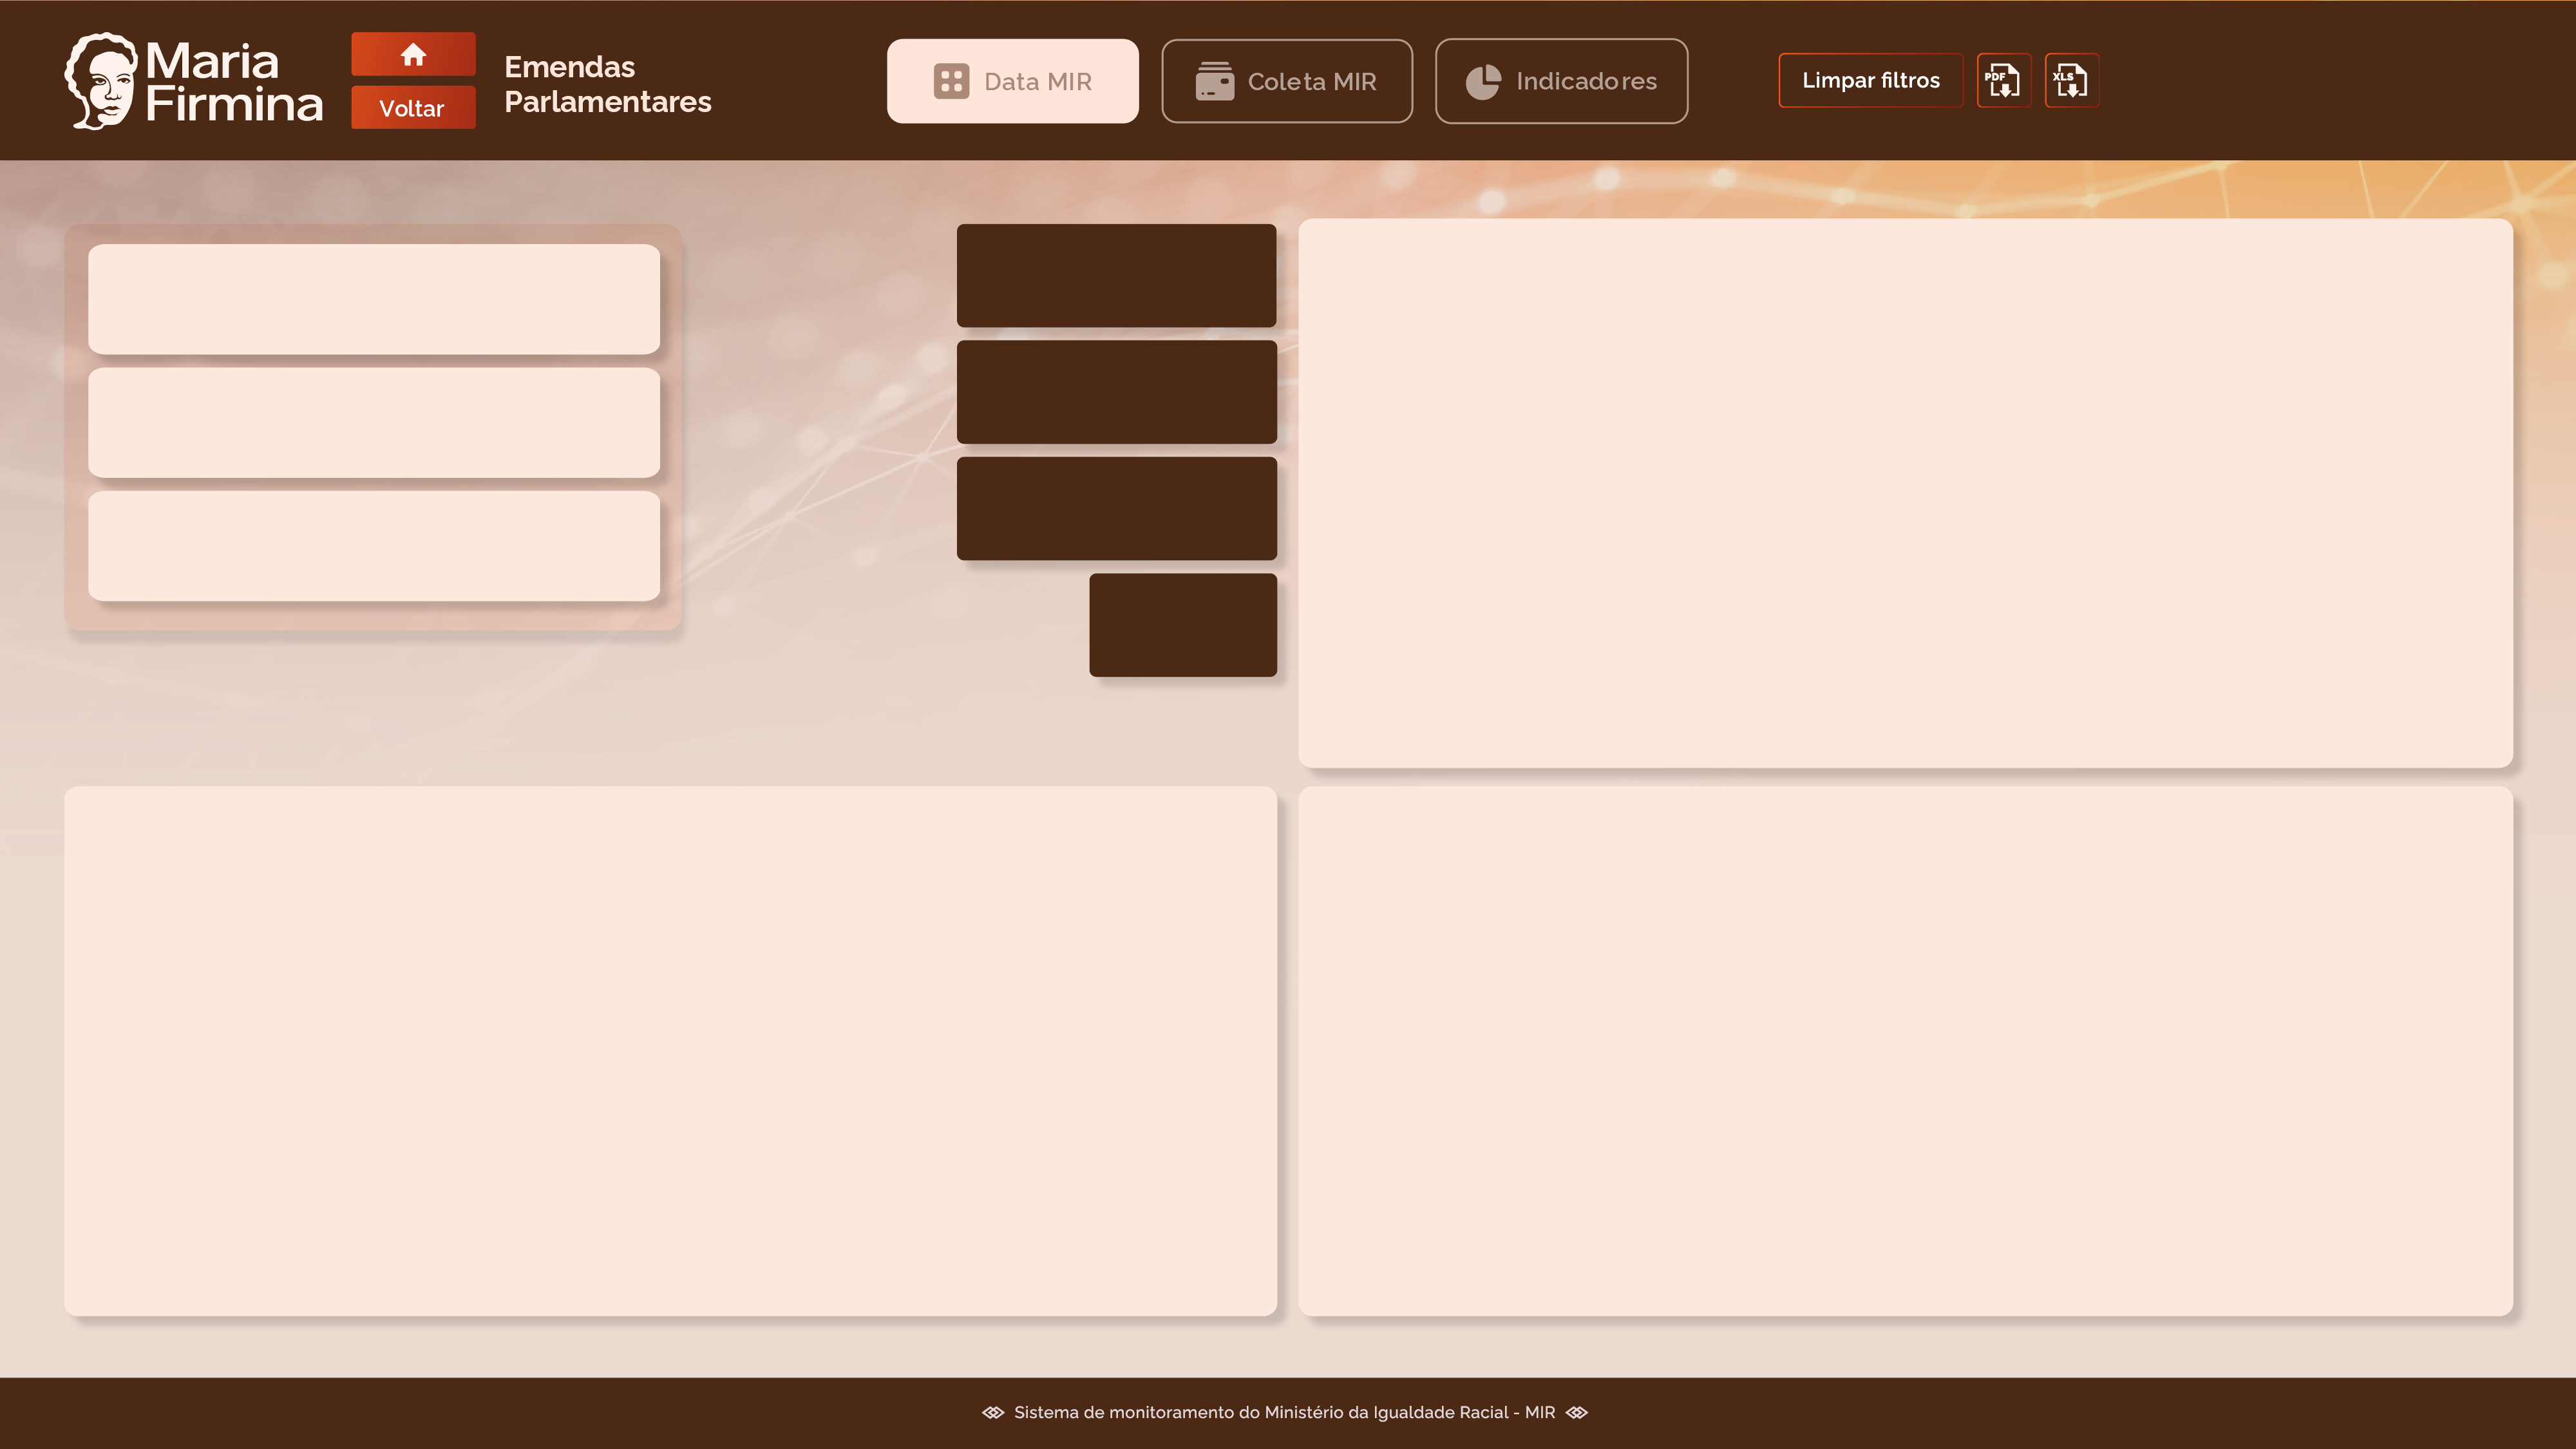

The page's visual inventory and layout, read from the dashboard file:
{"tool":"powerbi","page":{"name":"Emendas Parlamentares","canvas":[1920,1080],"ordinal":5},"visuals":[{"type":"slicer","fields":{"Values":["emendas_execucao.ne_ccor_ano_emissao"]},"box":[63.8,196.2,301.2,71.2],"z":1000},{"type":"slicer","fields":{"Values":["emendas_execucao.autor_emendas_orcamento_nome"]},"box":[63.8,391.2,301.2,72.5],"z":2000},{"type":"slicer","fields":{"Values":["emendas_execucao.cargo_autor"]},"box":[63.8,483.8,301.2,72.5],"z":3000},{"type":"slicer","fields":{"Values":["emendas_execucao.codigo+acaoajustada"]},"box":[63.8,286.2,301.2,73.8],"z":4000},{"type":"filledMap","fields":{"Category":["emendas_execucao.uf"]},"box":[436.3,267.3,577.2,353.8],"z":5000},{"type":"columnChart","title":"Total Pago Pelo Autor Por Região","fields":{"Category":["emendas_execucao.regiao_pt"],"Y":["Sum(emendas_execucao.despesas_pagas)"]},"box":[1038.8,267.3,405.7,353.8],"z":6000},{"type":"cardVisual","fields":{"Data":["_medidas.Percentual Pago"]},"box":[1132,170,238,71],"z":7000},{"type":"lineChart","title":"Empenhado por Ano e Mês","fields":{"Category":["emendas_execucao.ne_ccor_ano_emissao","emendas_execucao.emissao_mes"],"Y":["_medidas.Total Empenhado Emendas","_medidas.Total Pago Partido"]},"box":[1198.4,643.7,674.3,327.2],"z":8000},{"type":"clusteredBarChart","title":"Total Empenhado Emendas por Ação Orçamentária","fields":{"Category":["emendas_execucao.acao_ajustada"],"Y":["_medidas.Total Empenhado Emendas"]},"box":[436.3,639.8,738.2,331.2],"z":9000},{"type":"slicer","fields":{"Values":["emendas_execucao.codigo+programa"]},"box":[63.8,677.5,301.2,73.8],"z":10000},{"type":"slicer","fields":{"Values":["emendas_execucao.uf"]},"box":[63.8,768.8,301.2,72.5],"z":11000},{"type":"slicer","fields":{"Values":["emendas_execucao.partido"]},"box":[63.8,573.8,301.2,73.8],"z":12000},{"type":"clusteredBarChart","title":"Maiores beneficiários","fields":{"Category":["emendas_execucao.ne_ccor_favorecido_descricao"],"Y":["_medidas.Total Pago Partido"]},"box":[1464.4,267.3,408.3,353.8],"z":13000},{"type":"cardVisual","fields":{"Data":["Sum(emendas_execucao.dotacao_inicial)"]},"box":[1669,170,204,71],"z":15000},{"type":"cardVisual","fields":{"Data":["Sum(emendas_execucao.despesas_empenhadas)"]},"box":[435.7,170,218.6,71.4],"z":16000},{"type":"cardVisual","fields":{"Data":["Sum(emendas_execucao.despesas_liquidadas)"]},"box":[673,170,210,71],"z":17000},{"type":"cardVisual","fields":{"Data":["Sum(emendas_execucao.despesas_pagas)"]},"box":[902,170,210,71],"z":18000},{"type":"cardVisual","fields":{"Data":["Sum(emendas_execucao.restos_a_pagar_pagos)"]},"box":[1389,170,266,71],"z":19000},{"type":"slicer","fields":{"Values":["emendas_execucao.tipo_instrumento"]},"box":[63.8,871.2,301.2,72.5],"z":20000},{"type":"actionButton","box":[261.5,62,94.3,32.9],"z":21000},{"type":"actionButton","box":[261.7,22.8,92.2,33.3],"z":22000},{"type":"textbox","box":[1642.6,29.3,167.6,71.8],"z":23000},{"type":"actionButton","box":[1326.7,40.7,137.8,38.9],"z":24000},{"type":"image","box":[1820,42,53.3,37.8],"z":25000},{"type":"actionButton","box":[661.3,28.7,187.3,62.7],"z":26000},{"type":"actionButton","box":[866,28.7,187.3,62.7],"z":27000},{"type":"actionButton","box":[1069.3,30,187.3,62.7],"z":28000},{"type":"pageNavigator","box":[63.8,129.2,540,23.1],"z":29000}]}

Visuals, with their boxes on the page's 1920x1080 design canvas (x1, y1, x2, y2). These are canvas units, not pixel positions in the 2576x1449 screenshot, which may show the page scaled, cropped or inside an application window:
slicer - emendas_execucao.ne_ccor_ano_emissao: BBox(64, 196, 365, 267)
slicer - emendas_execucao.autor_emendas_orcamento_nome: BBox(64, 391, 365, 464)
slicer - emendas_execucao.cargo_autor: BBox(64, 484, 365, 556)
slicer - emendas_execucao.codigo+acaoajustada: BBox(64, 286, 365, 360)
filledMap - emendas_execucao.uf: BBox(436, 267, 1014, 621)
"Total Pago Pelo Autor Por Região" columnChart: BBox(1039, 267, 1444, 621)
cardVisual - _medidas.Percentual Pago: BBox(1132, 170, 1370, 241)
"Empenhado por Ano e Mês" lineChart: BBox(1198, 644, 1873, 971)
"Total Empenhado Emendas por Ação Orçamentária" clusteredBarChart: BBox(436, 640, 1174, 971)
slicer - emendas_execucao.codigo+programa: BBox(64, 678, 365, 751)
slicer - emendas_execucao.uf: BBox(64, 769, 365, 841)
slicer - emendas_execucao.partido: BBox(64, 574, 365, 648)
"Maiores beneficiários" clusteredBarChart: BBox(1464, 267, 1873, 621)
cardVisual - Sum(emendas_execucao.dotacao_inicial): BBox(1669, 170, 1873, 241)
cardVisual - Sum(emendas_execucao.despesas_empenhadas): BBox(436, 170, 654, 241)
cardVisual - Sum(emendas_execucao.despesas_liquidadas): BBox(673, 170, 883, 241)
cardVisual - Sum(emendas_execucao.despesas_pagas): BBox(902, 170, 1112, 241)
cardVisual - Sum(emendas_execucao.restos_a_pagar_pagos): BBox(1389, 170, 1655, 241)
slicer - emendas_execucao.tipo_instrumento: BBox(64, 871, 365, 944)
actionButton: BBox(262, 62, 356, 95)
actionButton: BBox(262, 23, 354, 56)
textbox: BBox(1643, 29, 1810, 101)
actionButton: BBox(1327, 41, 1464, 80)
image: BBox(1820, 42, 1873, 80)
actionButton: BBox(661, 29, 849, 91)
actionButton: BBox(866, 29, 1053, 91)
actionButton: BBox(1069, 30, 1257, 93)
pageNavigator: BBox(64, 129, 604, 152)
